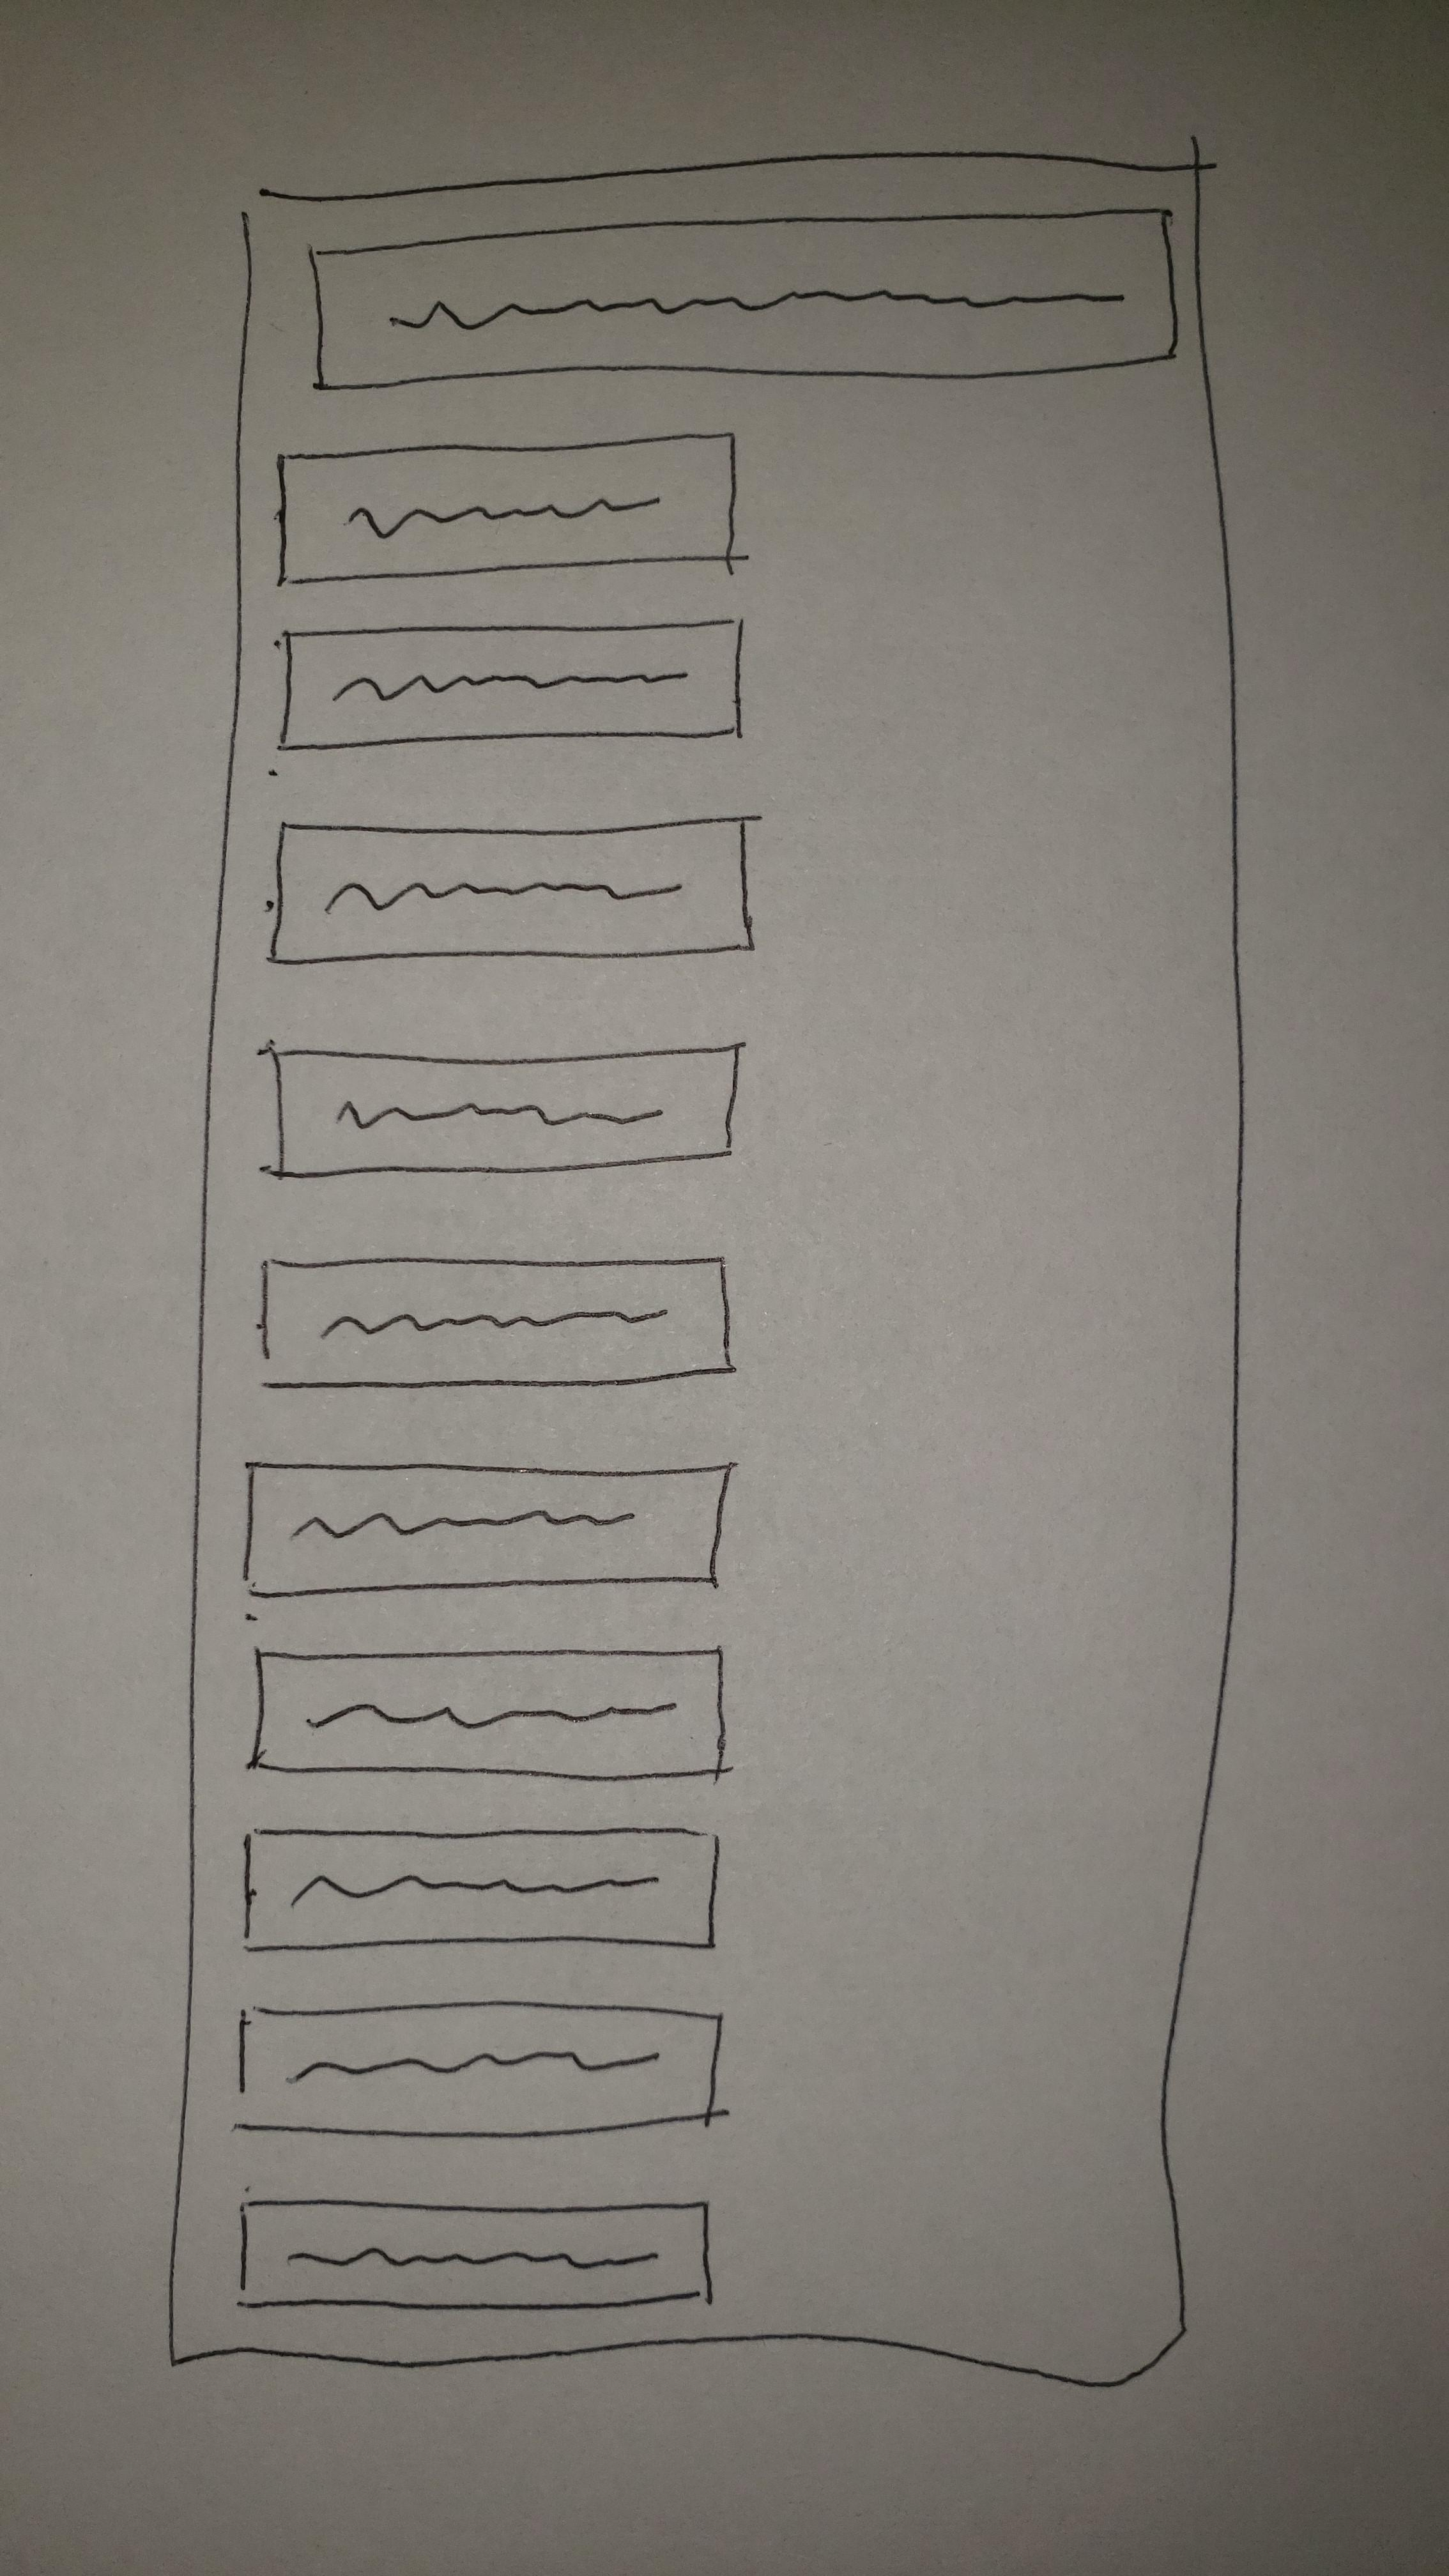Button: (308, 205, 1175, 389), (269, 814, 755, 962), (276, 430, 738, 586), (248, 1461, 734, 1596), (241, 2003, 722, 2135), (264, 1253, 736, 1387), (280, 616, 745, 752), (272, 1044, 743, 1178), (255, 1649, 724, 1780), (244, 1828, 720, 1955), (241, 2196, 717, 2309)
Screen: (172, 154, 1242, 2387)
